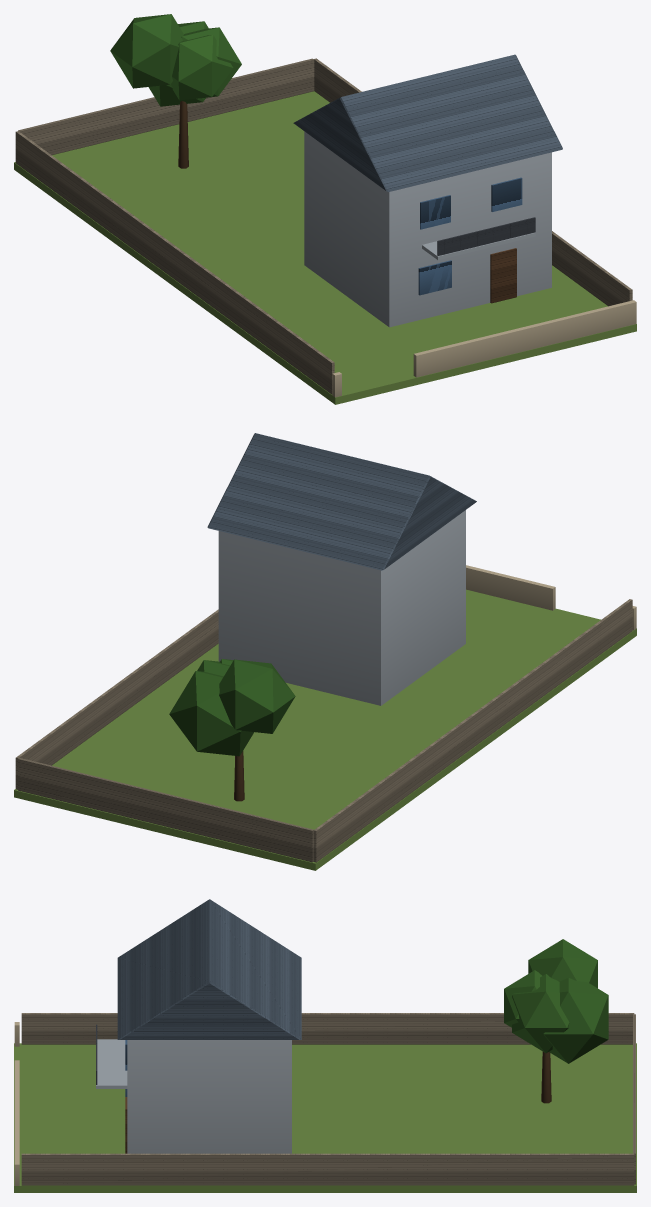
Rendered from sobrado_1.glb.
The picture shows the model from 3 angles, top to bottom: view 1: azimuth 30°, elevation 25°; view 2: azimuth 150°, elevation 25°; view 3: azimuth 270°, elevation 25°; orthographic projection. The views are drawn at different scales.
Visible parts, largest first — view 1: sobrado_1_liso, sobrado_1; view 2: sobrado_1_liso, sobrado_1; view 3: sobrado_1_liso, sobrado_1.
Boxes of the visible parts, bbox=[...] form: sobrado_1_liso: bbox=[14, 14, 636, 404]; sobrado_1: bbox=[15, 54, 632, 394]; sobrado_1_liso: bbox=[14, 510, 636, 870]; sobrado_1: bbox=[15, 433, 632, 862]; sobrado_1_liso: bbox=[14, 939, 636, 1192]; sobrado_1: bbox=[21, 899, 635, 1185].
Bounding box in the file's own units: 13 × 8.57 × 24.
Materials: 4 (3 with a texture image).
